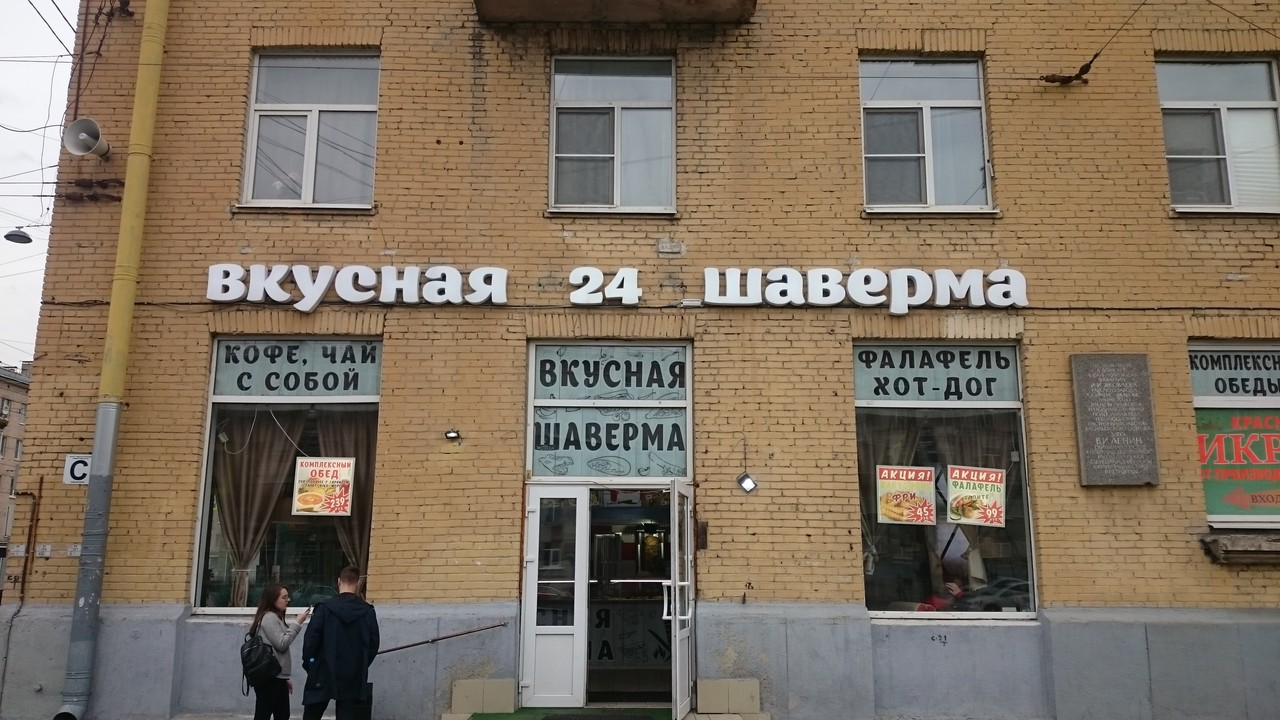door: (523, 479, 693, 714)
signboard: (699, 261, 1029, 316), (208, 259, 511, 307), (566, 262, 644, 313)
win_ad: (534, 406, 682, 477), (854, 345, 1022, 401), (218, 339, 378, 396), (532, 343, 682, 402)
window: (185, 331, 378, 613), (860, 341, 1023, 621), (859, 52, 990, 211), (249, 44, 377, 205), (1154, 52, 1280, 214), (550, 54, 678, 210)
